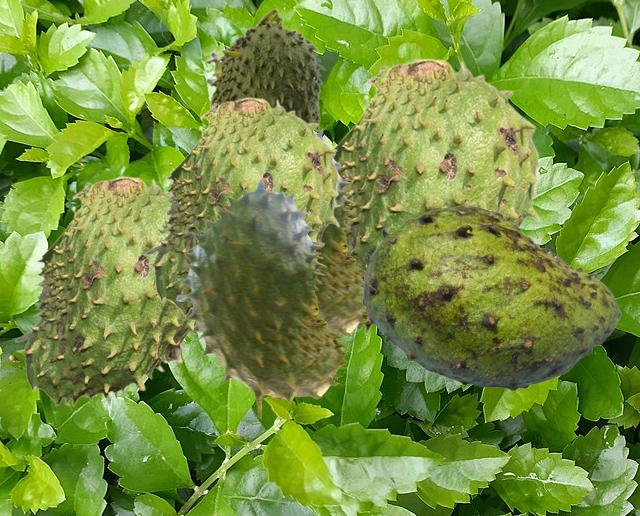guyabano: (333, 58, 541, 334), (360, 204, 620, 390), (14, 176, 201, 406), (144, 97, 340, 316), (176, 178, 347, 418), (205, 7, 325, 131), (315, 128, 367, 336)
